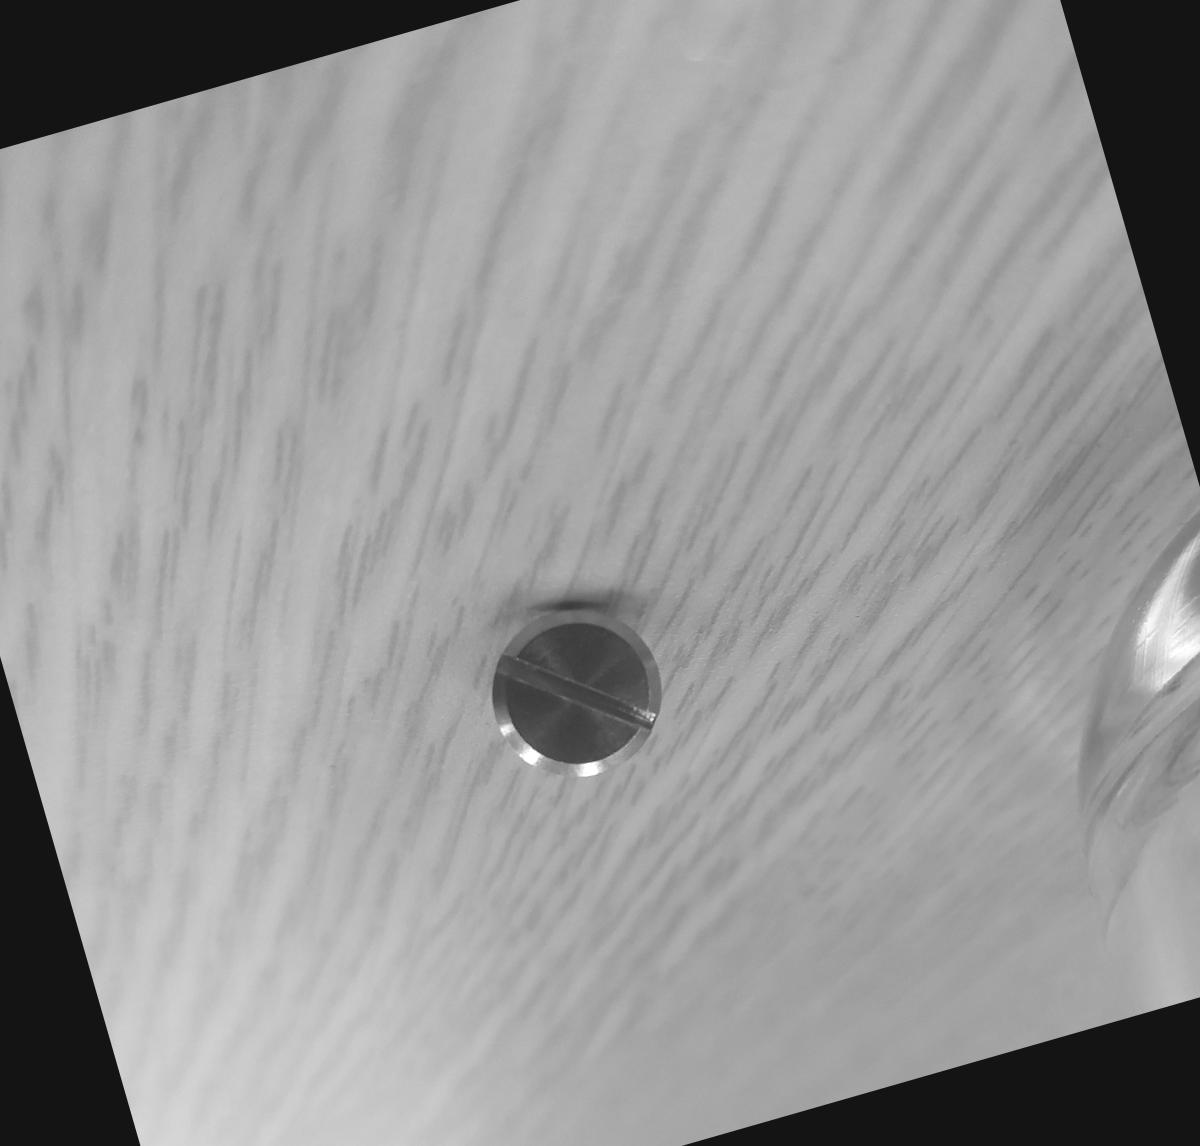slotted: (466, 586, 682, 801)
